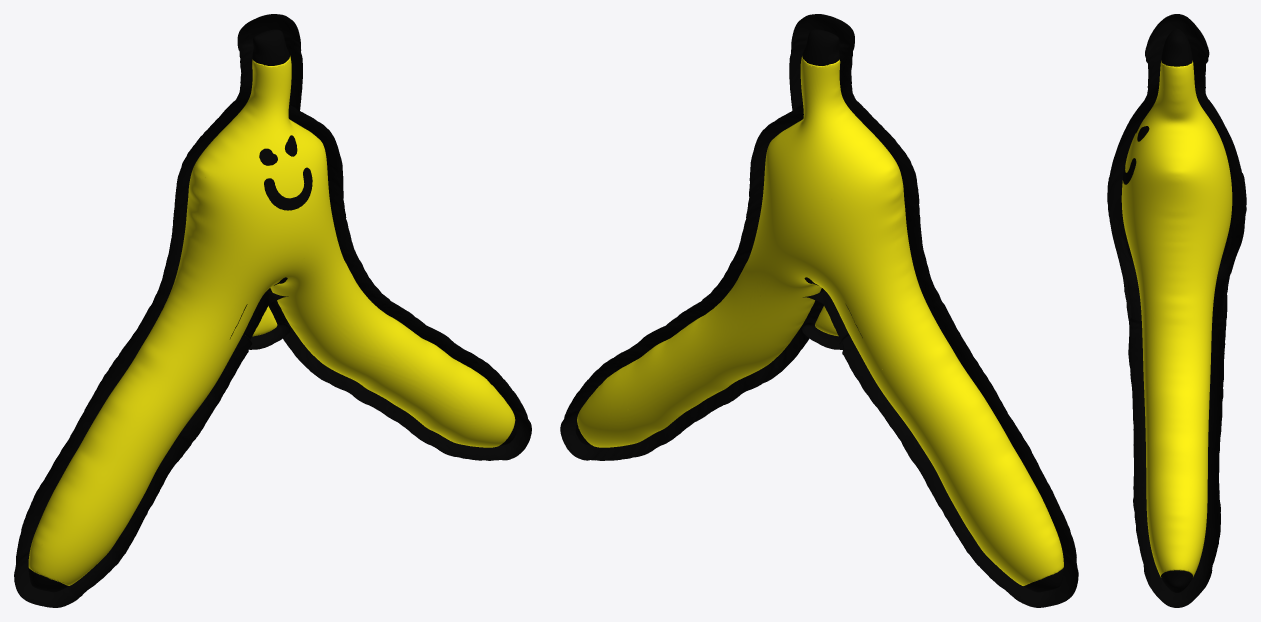
Rendered from banana_legs.obj.
3 renders of one model, left to right at view 1: azimuth 30°, elevation 25°; view 2: azimuth 150°, elevation 25°; view 3: azimuth 270°, elevation 25°, orthographic. The views are drawn at different scales.
Visible parts, largest first — view 1: Banana_Body, Outline_Ink_Body, Banana_Tips_Black, Face_Mouth, Outline_Ink_LegPeel; view 2: Banana_Body, Outline_Ink_Body, Banana_Tips_Black, Outline_Ink_LegPeel; view 3: Banana_Body, Outline_Ink_Body, Banana_Tips_Black, Face_Mouth.
Boxes of the visible parts, <box> form: Banana_Body: <box>28,56,515,585</box>; Outline_Ink_Body: <box>14,14,531,607</box>; Banana_Tips_Black: <box>28,29,516,592</box>; Face_Mouth: <box>264,167,312,210</box>; Outline_Ink_LegPeel: <box>236,288,290,349</box>; Banana_Body: <box>577,56,1063,585</box>; Outline_Ink_Body: <box>560,14,1078,607</box>; Banana_Tips_Black: <box>575,29,1063,592</box>; Outline_Ink_LegPeel: <box>802,288,855,349</box>; Banana_Body: <box>1121,61,1232,577</box>; Outline_Ink_Body: <box>1107,14,1246,607</box>; Banana_Tips_Black: <box>1161,28,1192,592</box>; Face_Mouth: <box>1123,140,1136,184</box>.
Bounding box in the file's own units: 1.49 × 1.49 × 0.3682.
